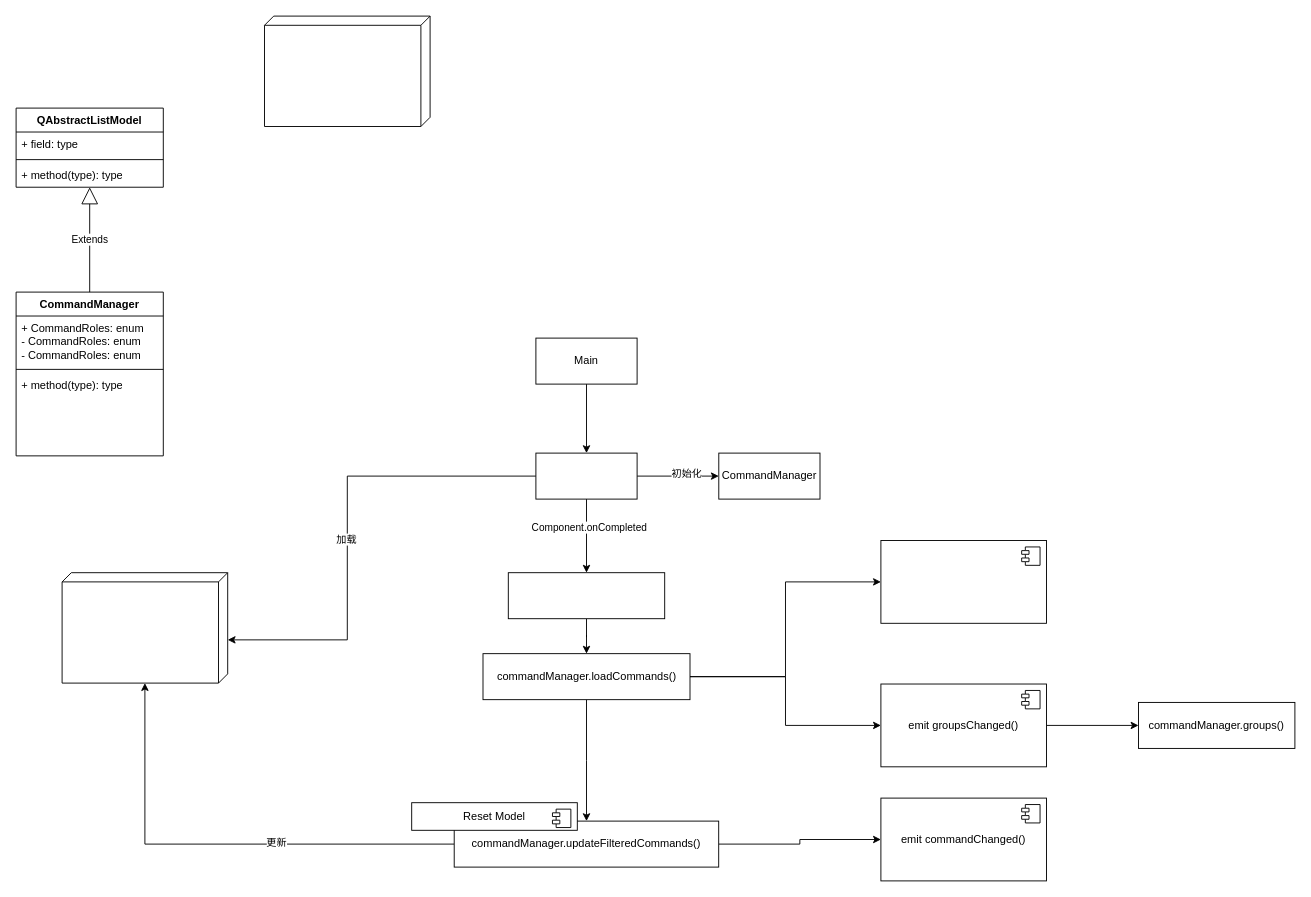
Image size: 1311x897. Some labels were removed from this diagram. Each missing label, with the centre of its shape:
APP.exec: the point at 586,475
commandManager.initialize(): the point at 586,595
initial m_allCommands: the point at 963,581
m_allCommand: the point at 347,70
m_filteredCommand: the point at 144,627
